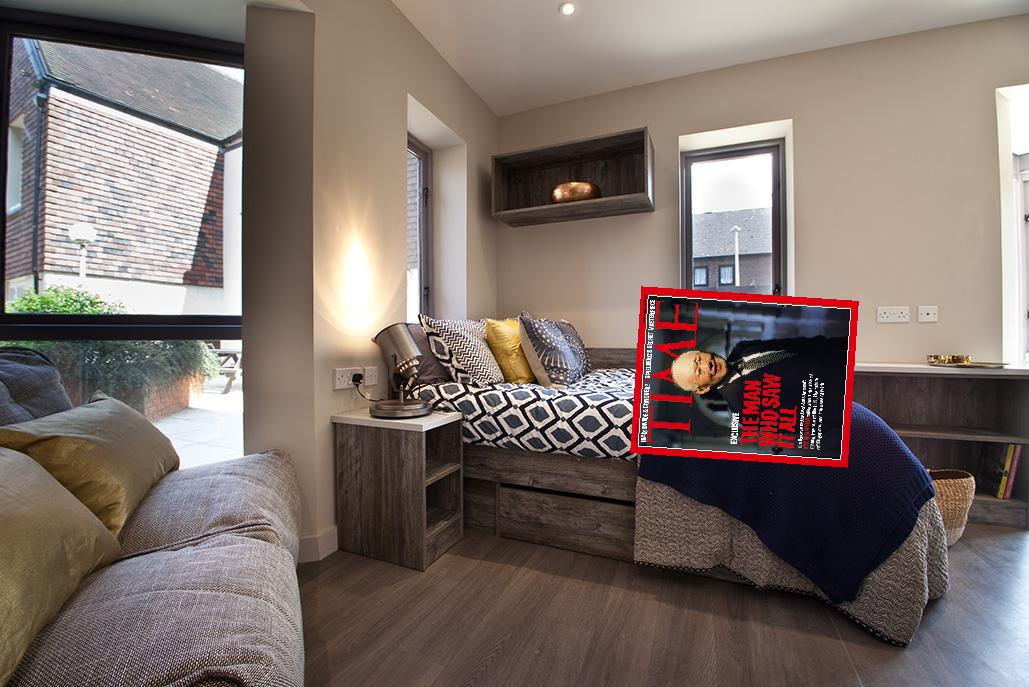times: (627, 284, 864, 468)
